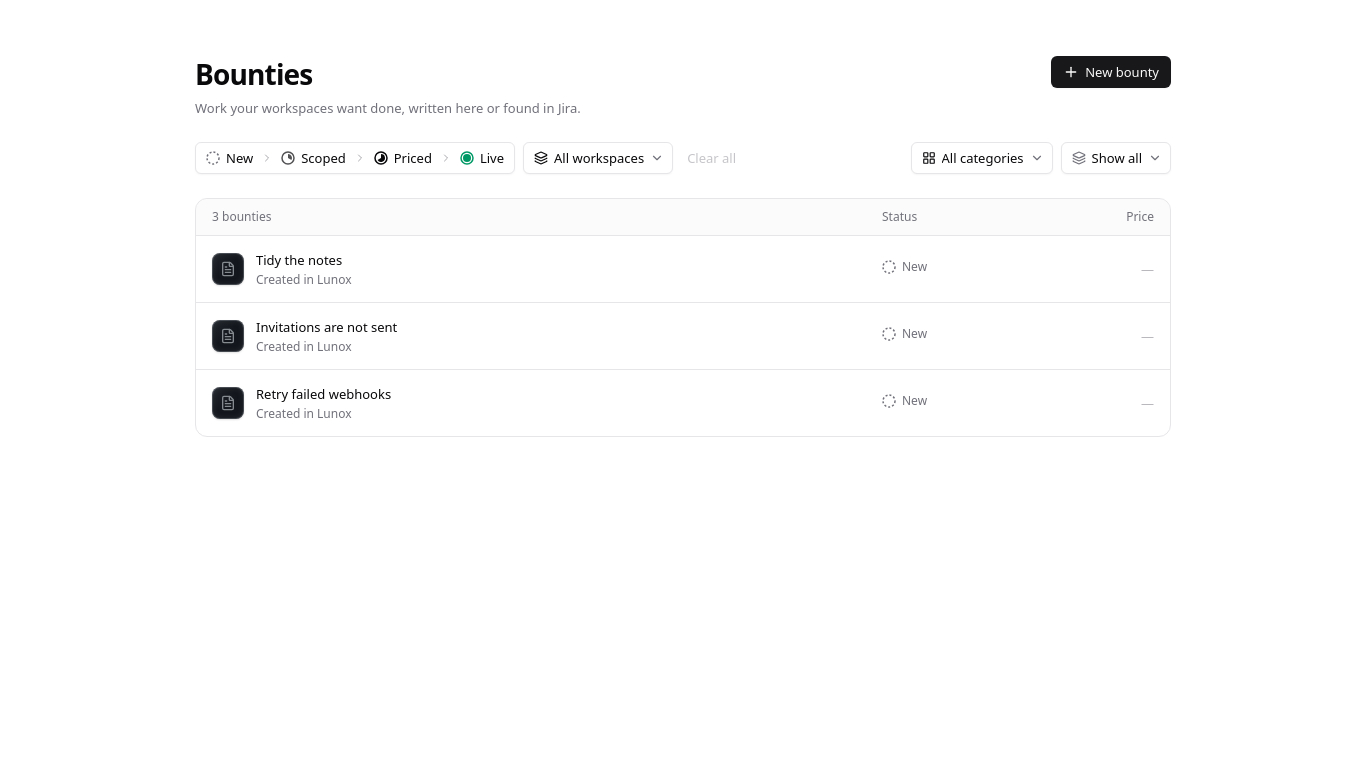
Test case: a bounty opens through its own workspace, as the role held there allows
The width and height of the screenshot is (1366, 768).
Click the link "Retry failed webhooks".
click(324, 394)  # box [256, 385, 391, 403]
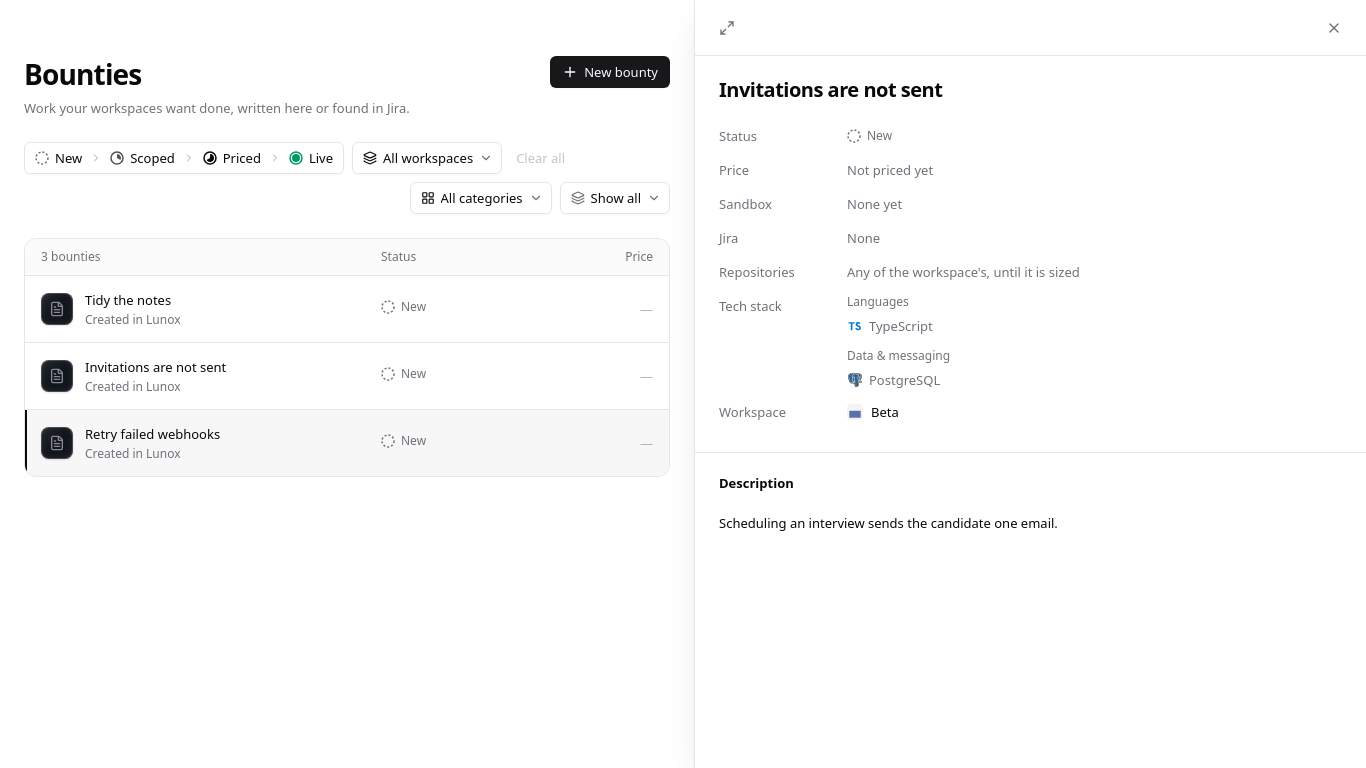
Result: the element with test id "bounty-detail" is shown at [719, 76, 1342, 542]
Click the link named "Open as page".
click(727, 28)  # box [719, 20, 735, 36]
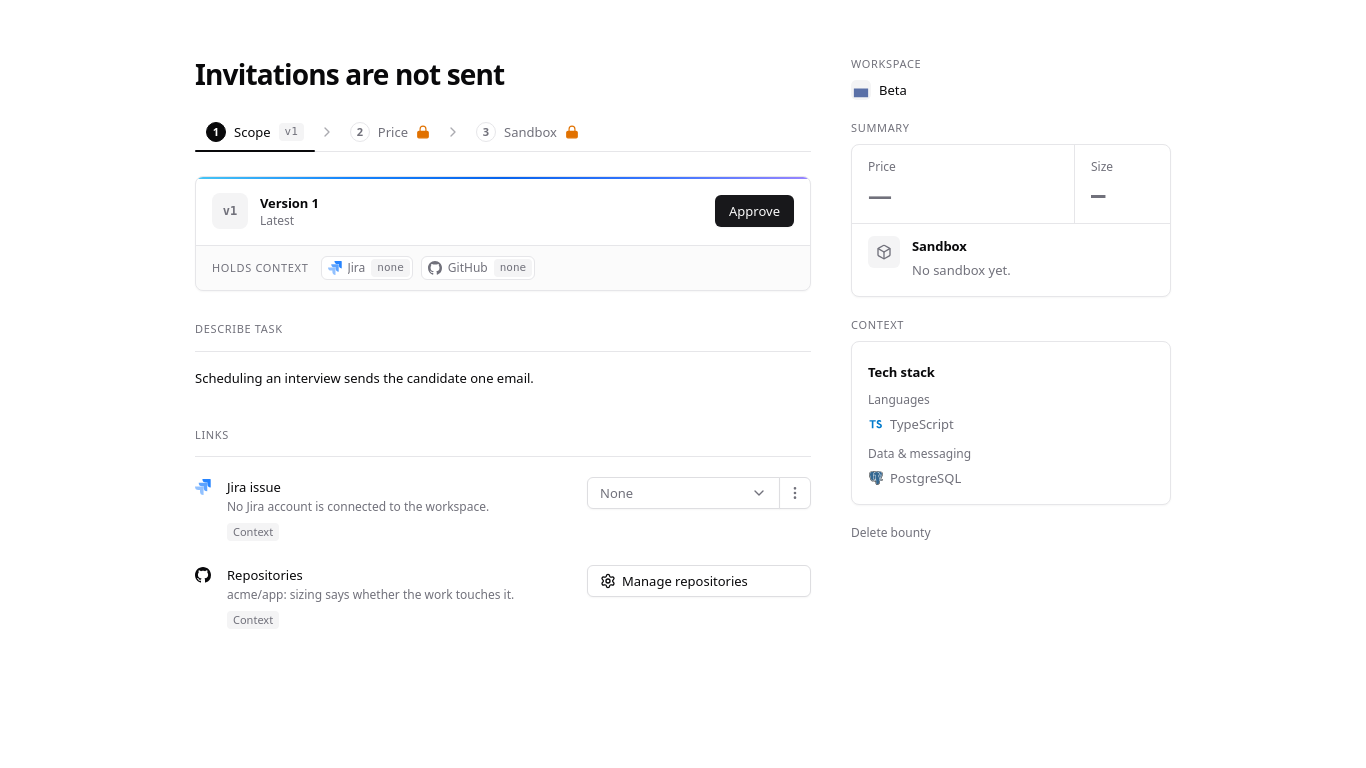
Click the tab "3 Sandbox".
click(527, 132)  # box [465, 116, 590, 148]
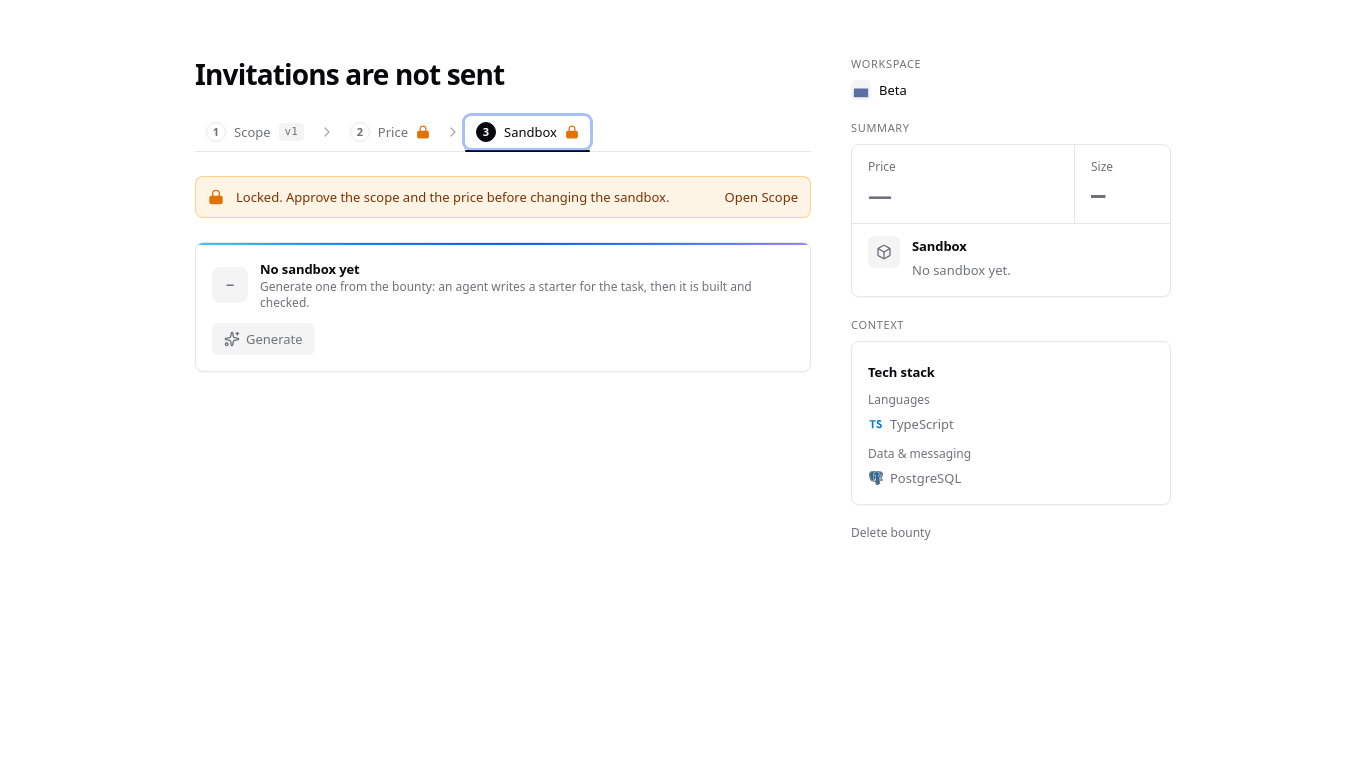
Result: the button "Generate" is shown at [212, 323, 315, 355]
